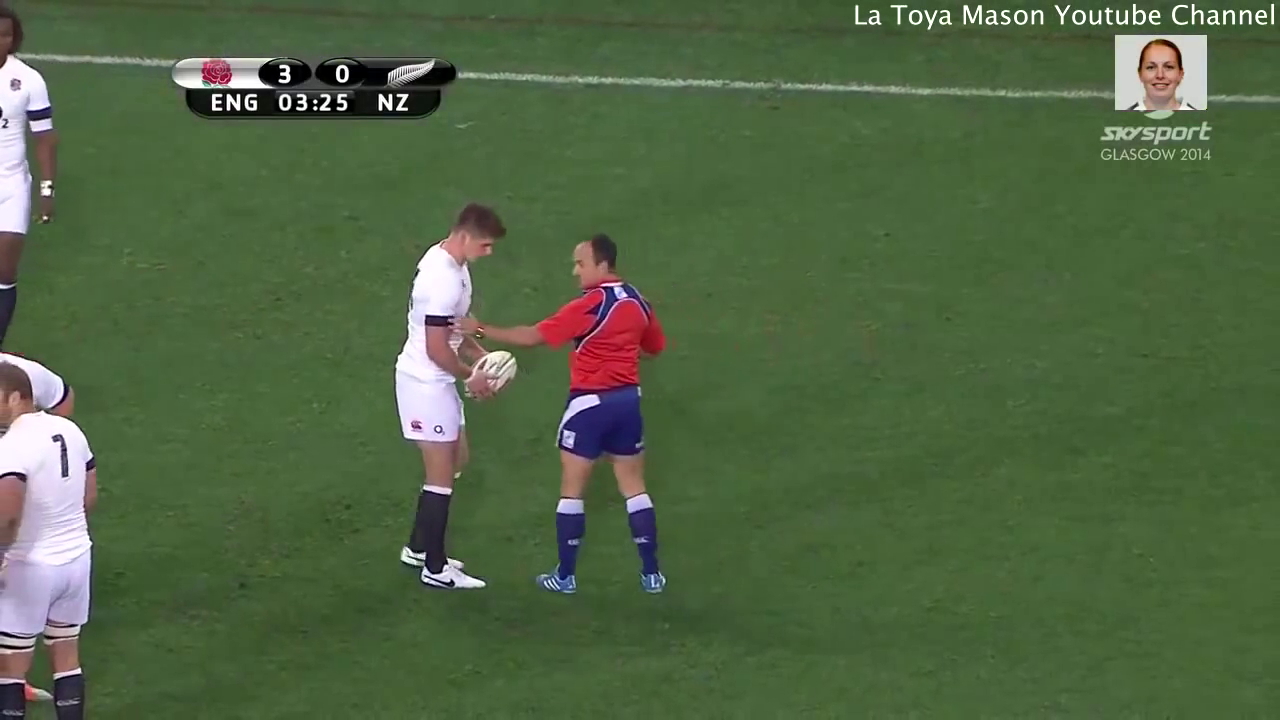player: (431, 224, 672, 600), (379, 193, 524, 601), (1, 355, 108, 720), (1, 1, 65, 352)
